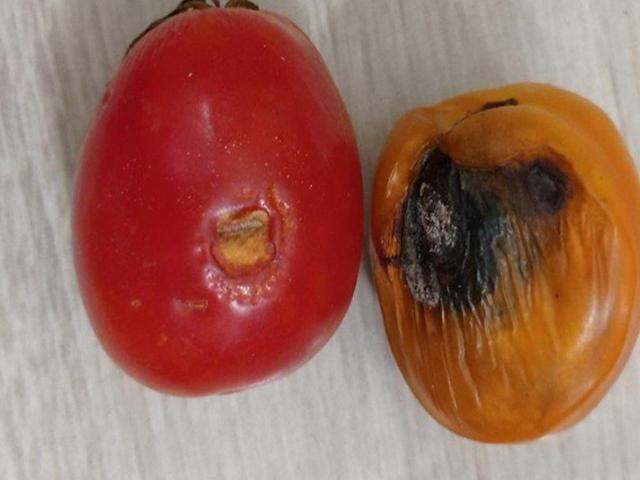defect: (79, 0, 366, 394), (361, 81, 639, 446)
